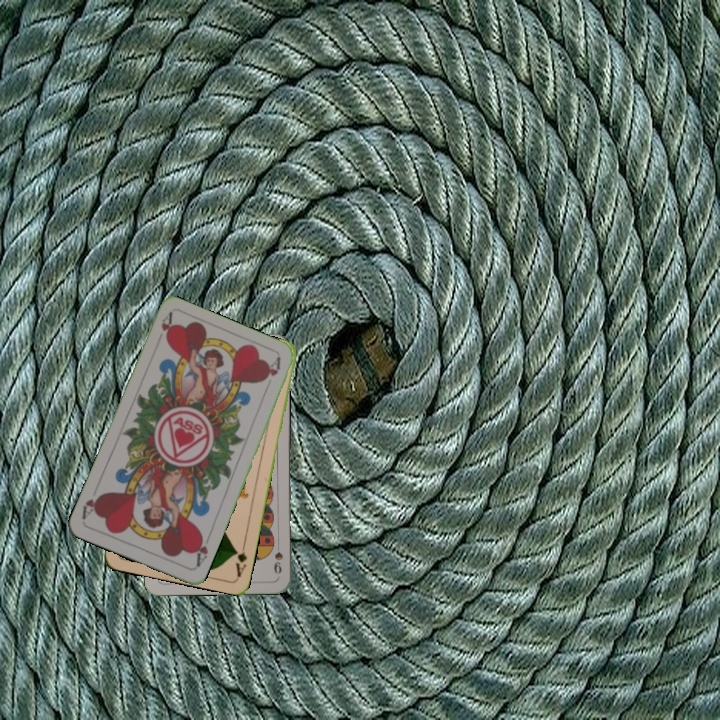GA: (231, 539, 250, 579)
HA: (152, 310, 176, 349), (190, 530, 211, 570)
S9: (270, 537, 286, 576)
